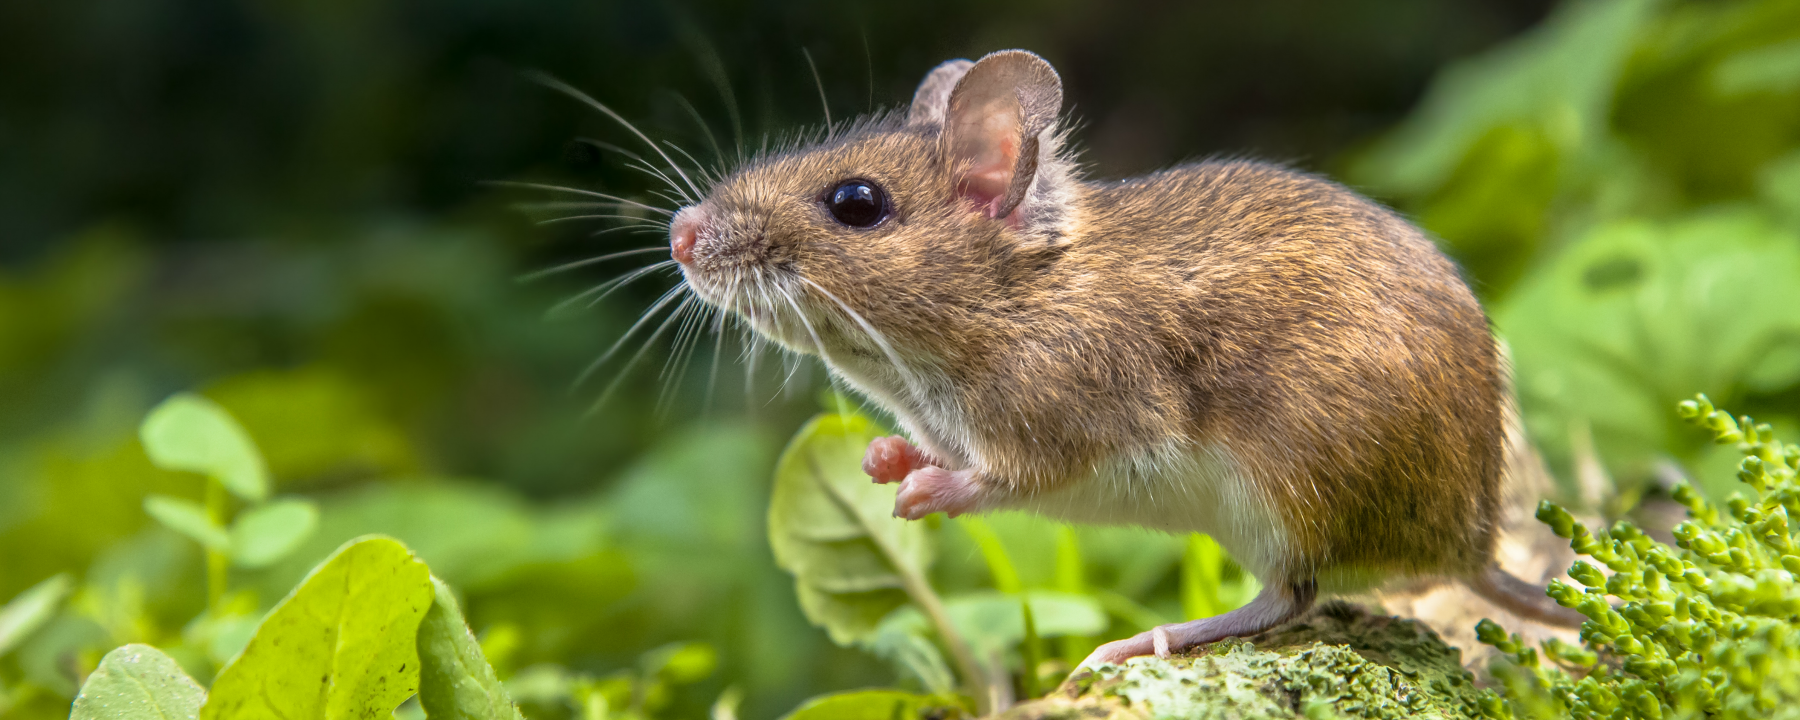mouse: (595, 36, 1630, 655)
